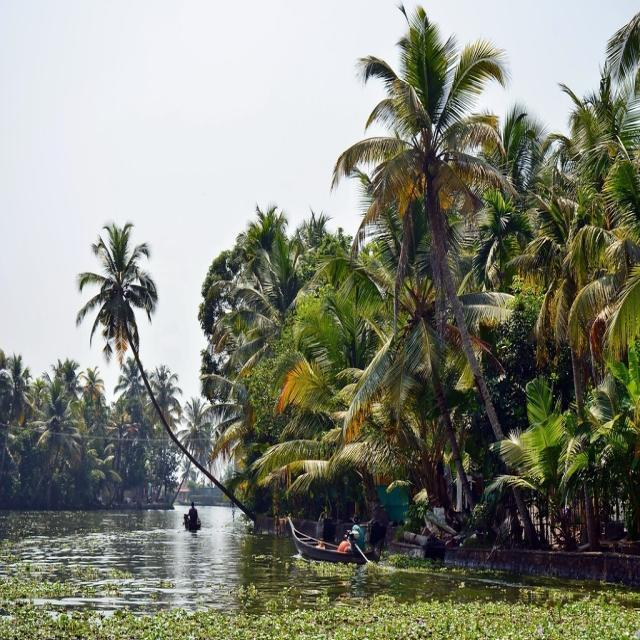Hyacinth: (67, 592, 640, 640), (74, 560, 136, 598), (291, 550, 366, 581), (384, 552, 453, 580)
boat: (280, 513, 374, 575), (179, 508, 205, 537)
